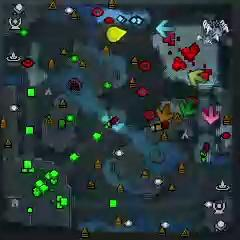p4: (107, 26, 128, 41)
x1: (202, 106, 220, 124)
x2: (188, 70, 205, 86)
x3: (155, 20, 175, 38)
x4: (180, 100, 196, 119)
x5: (156, 105, 172, 122)
